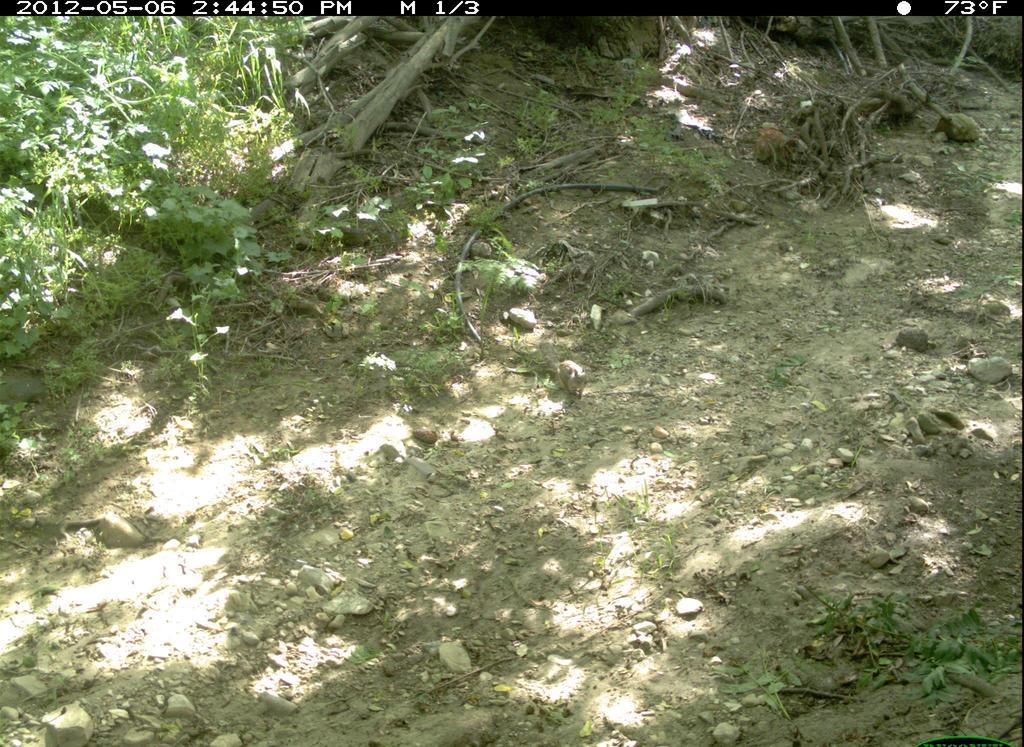squirrel: (533, 341, 610, 422)
